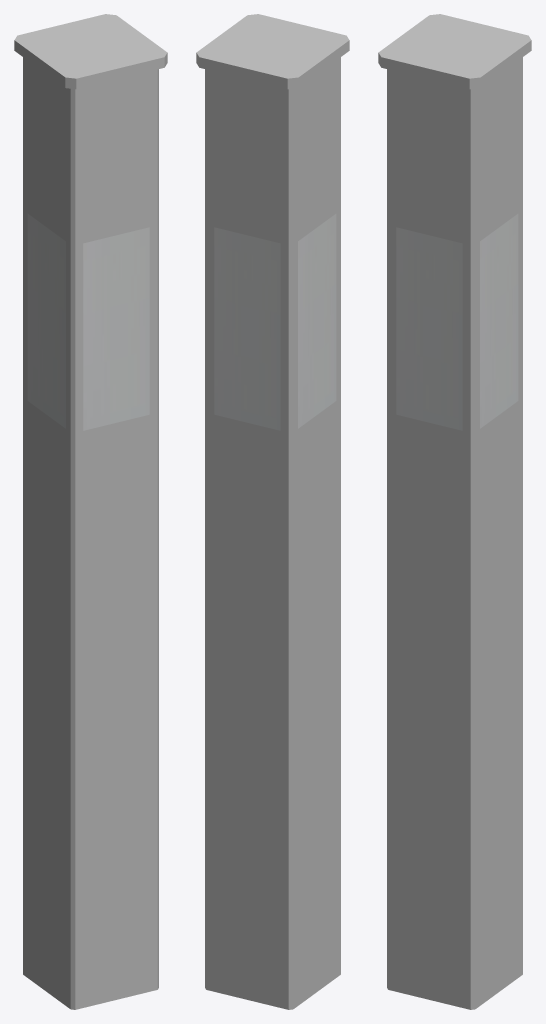
File: light.FBX
The picture shows the model from 3 angles, left to right: view 1: azimuth 30°, elevation 25°; view 2: azimuth 150°, elevation 25°; view 3: azimuth 330°, elevation 25°; orthographic projection.
Visible parts, largest first — view 1: Box001; view 2: Box001; view 3: Box001.
Part boxes in pixels (left/top/right/bottom): Box001: left=14, top=14, right=167, bottom=1009; Box001: left=196, top=14, right=349, bottom=1009; Box001: left=378, top=14, right=531, bottom=1009.
Bounding box in the file's own units: 3.47 × 30.34 × 3.47.
